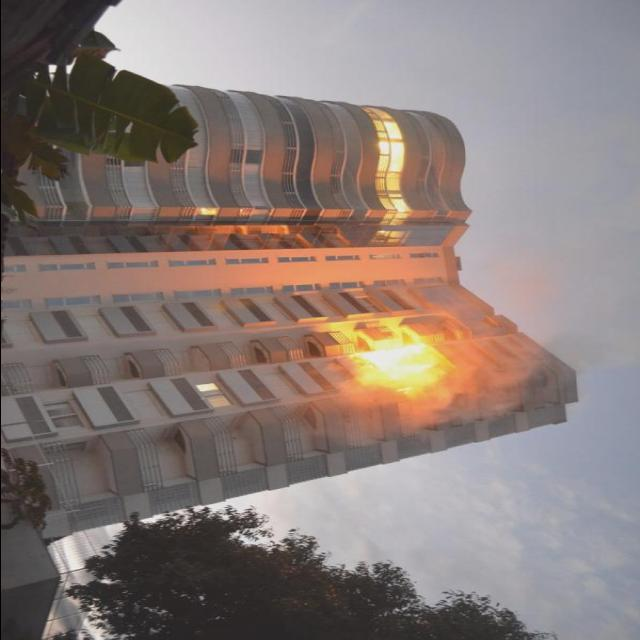Fire: (358, 338, 438, 388)
